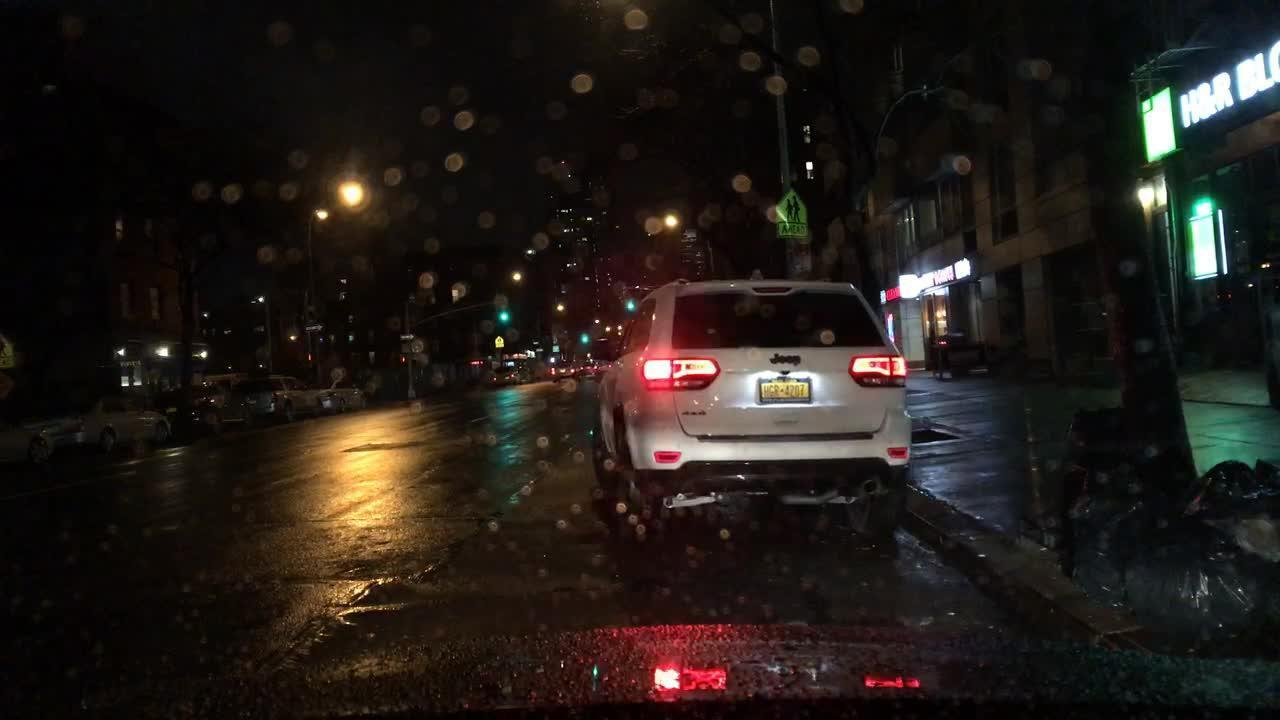jeep: (768, 352, 805, 368)
